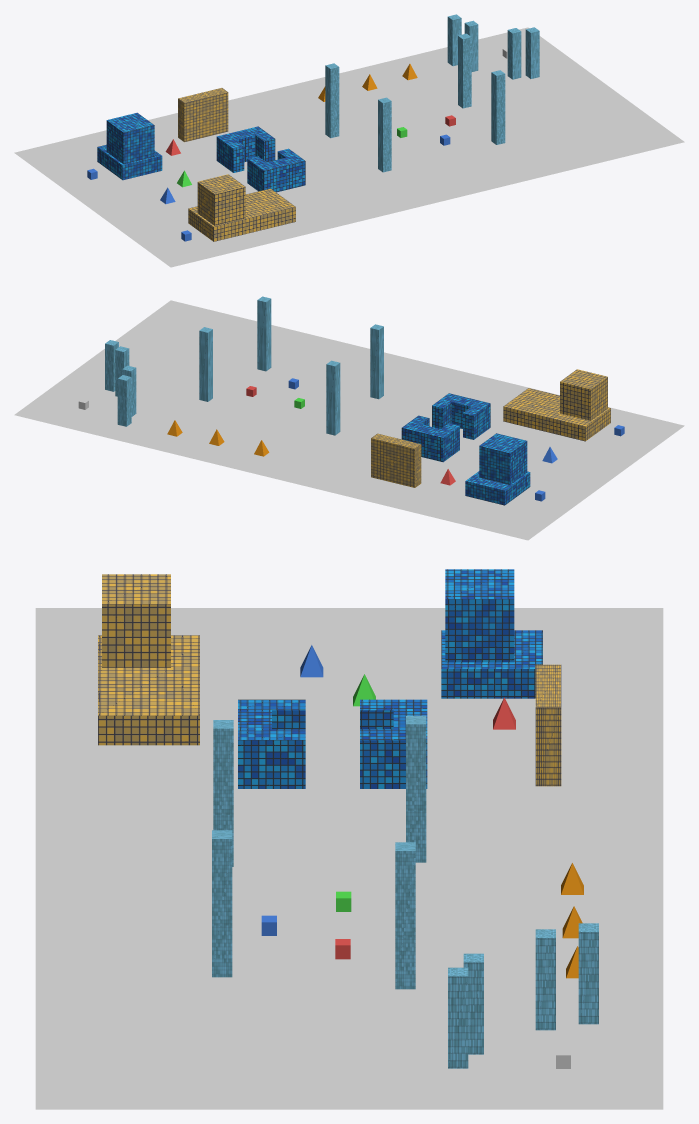
The model's file is Italy.dae.
3 renders of one model, top to bottom at view 1: azimuth 30°, elevation 25°; view 2: azimuth 150°, elevation 25°; view 3: azimuth 270°, elevation 25°, orthographic. The views are drawn at different scales.
Visible parts, largest first — view 1: Plane, Building.000, Building.003, Building.001, Building.002, BigBuilding.003, BigBuilding.002, BigBuilding.004, BigBuilding.001, SmallBuilding.004, SmallBuilding.003, SmallBuilding.002 (+1 smaller); view 2: Plane, Building.000, Building.003, Building.001, Building.002, BigBuilding.002, BigBuilding.003, BigBuilding.004, BigBuilding.001, SmallBuilding.002, SmallBuilding.004, SmallBuilding.003; view 3: Plane, Building.000, Building.001, Building.003, Building.002, BigBuilding.001, BigBuilding.003, BigBuilding.002, BigBuilding.004, SmallBuilding.004, SmallBuilding.002, SmallBuilding.001 (+1 smaller).
Boxes of the visible parts, x1,y1,x2,y2 form: Plane: [14, 27, 684, 267]; Building.000: [188, 174, 295, 241]; Building.003: [216, 126, 305, 192]; Building.001: [97, 112, 162, 180]; Building.002: [178, 88, 228, 142]; BigBuilding.003: [491, 70, 505, 144]; BigBuilding.002: [325, 63, 339, 138]; BigBuilding.004: [378, 97, 391, 172]; BigBuilding.001: [458, 33, 471, 108]; SmallBuilding.004: [525, 27, 539, 78]; SmallBuilding.003: [507, 28, 521, 79]; SmallBuilding.002: [447, 14, 461, 66]; Plane: [14, 300, 684, 540]; Building.000: [503, 369, 610, 441]; Building.003: [401, 393, 490, 462]; Building.001: [465, 433, 530, 505]; Building.002: [371, 433, 421, 487]; BigBuilding.002: [326, 360, 340, 435]; BigBuilding.003: [257, 296, 271, 371]; BigBuilding.004: [370, 324, 383, 399]; BigBuilding.001: [199, 327, 212, 401]; SmallBuilding.002: [117, 375, 131, 426]; SmallBuilding.004: [105, 340, 118, 391]; SmallBuilding.003: [115, 346, 129, 396]; Plane: [35, 608, 663, 1109]; Building.000: [98, 574, 199, 745]; Building.001: [441, 569, 542, 698]; Building.003: [238, 699, 427, 788]; Building.002: [535, 664, 561, 786]; BigBuilding.001: [395, 842, 415, 989]; BigBuilding.003: [212, 830, 232, 977]; BigBuilding.002: [406, 715, 426, 862]; BigBuilding.004: [213, 720, 233, 866]; SmallBuilding.004: [448, 967, 468, 1068]; SmallBuilding.002: [578, 923, 598, 1024]; SmallBuilding.001: [535, 929, 555, 1030].
Size of the model in its own units: 23.33 by 12.33 by 3.
7 materials, 3 textured.
